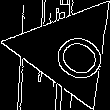O_NW: (32, 18, 104, 83)
